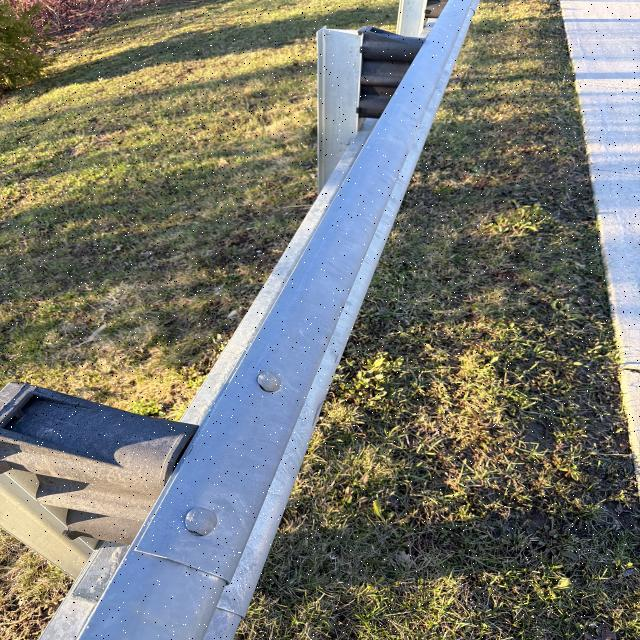Guard rail: (21, 38, 470, 566), (1, 389, 198, 568)
